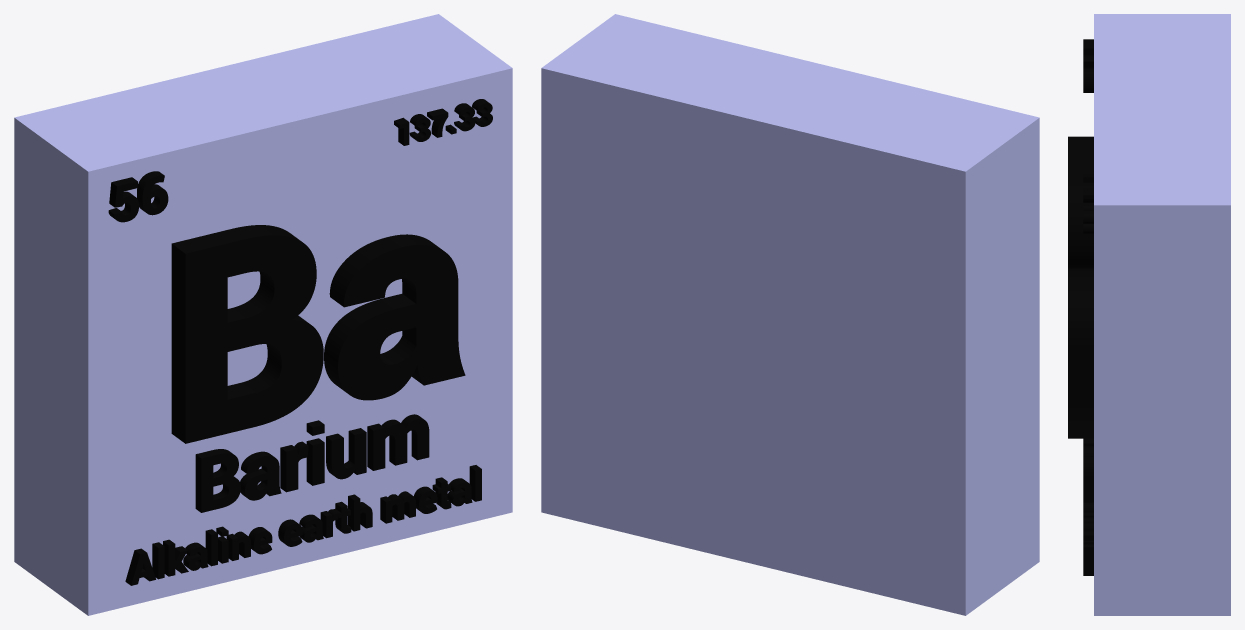
3 views of the same model, side by side, from view 1: azimuth 30°, elevation 25°; view 2: azimuth 150°, elevation 25°; view 3: azimuth 270°, elevation 25° (orthographic). The views are drawn at different scales.
Visible parts, largest first — view 1: Cube, Text, Text.001, Text.002, Text.004, Text.003; view 2: Cube; view 3: Cube, Text, Text.002, Text.001, Text.004, Text.003.
Part boxes in pixels (bbox=[...]): Cube: bbox=[14, 14, 512, 615]; Text: bbox=[171, 225, 465, 443]; Text.001: bbox=[195, 414, 429, 512]; Text.002: bbox=[125, 465, 481, 585]; Text.004: bbox=[394, 99, 492, 145]; Text.003: bbox=[108, 171, 168, 222]; Cube: bbox=[541, 14, 1039, 615]; Cube: bbox=[1094, 14, 1230, 615]; Text: bbox=[1068, 136, 1093, 438]; Text.002: bbox=[1083, 501, 1093, 575]; Text.001: bbox=[1083, 438, 1093, 500]; Text.004: bbox=[1083, 173, 1093, 233]; Text.003: bbox=[1083, 39, 1093, 92].
Bounding box in the file's own units: 178 × 178 × 63.95.
